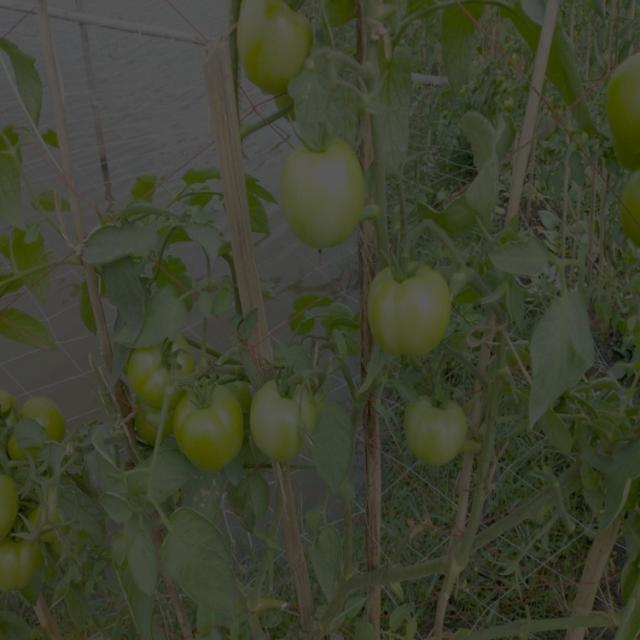tomato: (285, 135, 367, 254), (365, 256, 454, 362), (238, 1, 313, 88), (173, 381, 241, 471), (248, 381, 313, 471), (406, 384, 473, 467), (596, 58, 640, 161), (129, 347, 198, 404), (1, 525, 45, 595), (28, 396, 67, 446), (1, 454, 21, 535), (620, 170, 640, 251), (3, 389, 21, 448)
